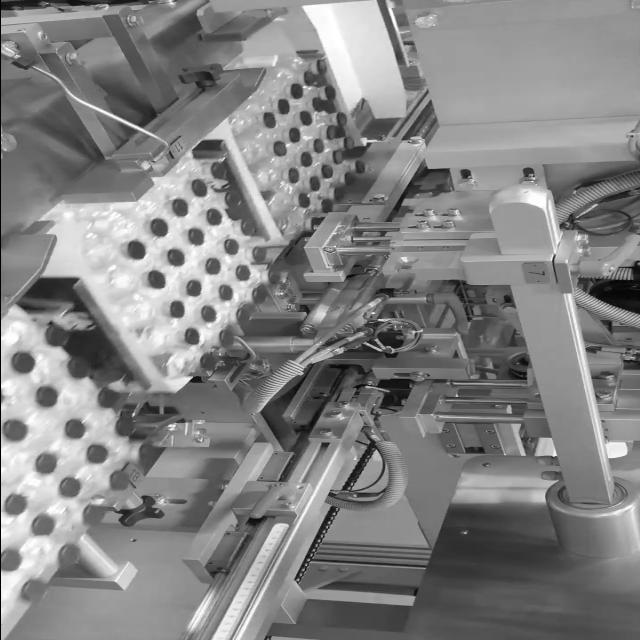vial: (19, 578, 46, 608), (55, 542, 81, 568), (1, 420, 24, 442), (105, 472, 130, 492), (61, 420, 86, 440), (123, 240, 145, 262), (0, 552, 20, 576), (78, 504, 98, 526), (89, 446, 107, 470), (30, 518, 52, 537), (36, 456, 55, 478), (12, 350, 28, 376), (58, 479, 76, 501), (149, 218, 167, 240), (196, 352, 215, 372), (146, 271, 165, 291), (168, 300, 185, 322), (38, 387, 58, 405), (70, 356, 86, 378), (5, 496, 22, 516), (214, 331, 234, 348), (199, 308, 217, 326), (185, 282, 203, 300), (247, 289, 264, 307), (205, 258, 222, 276), (168, 250, 185, 268), (187, 230, 204, 248), (136, 446, 152, 464), (98, 390, 114, 408), (233, 264, 249, 282), (250, 247, 268, 263), (262, 111, 278, 129), (48, 328, 62, 348), (206, 210, 220, 230), (240, 220, 256, 237), (218, 286, 235, 301), (224, 238, 238, 256), (225, 190, 239, 208), (278, 98, 292, 116), (192, 178, 206, 195), (174, 200, 187, 218), (236, 306, 250, 322), (183, 328, 197, 344), (308, 218, 324, 232), (308, 98, 322, 114), (315, 56, 327, 74), (212, 162, 225, 178), (265, 268, 278, 284), (320, 200, 334, 214), (120, 418, 130, 437), (0, 390, 9, 410), (324, 126, 336, 140), (274, 142, 286, 156), (301, 152, 311, 168), (321, 164, 332, 178), (288, 127, 300, 139), (343, 172, 353, 186), (354, 160, 364, 174), (288, 168, 298, 182), (313, 140, 323, 154), (297, 196, 310, 206), (310, 176, 318, 192), (342, 138, 352, 150), (322, 86, 332, 98), (301, 112, 310, 125), (302, 72, 310, 86), (293, 84, 301, 98), (336, 114, 346, 125), (334, 151, 342, 163), (332, 188, 340, 198)
